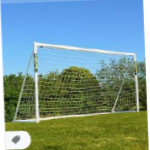goals: (13, 38, 142, 123)
